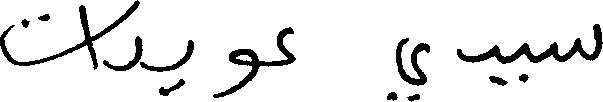X: (0, 9, 78, 70), (104, 0, 141, 75), (552, 19, 602, 66), (396, 33, 427, 101), (458, 40, 498, 89), (229, 44, 256, 98), (80, 0, 96, 74), (277, 22, 294, 70), (182, 35, 193, 90), (522, 38, 528, 87)
